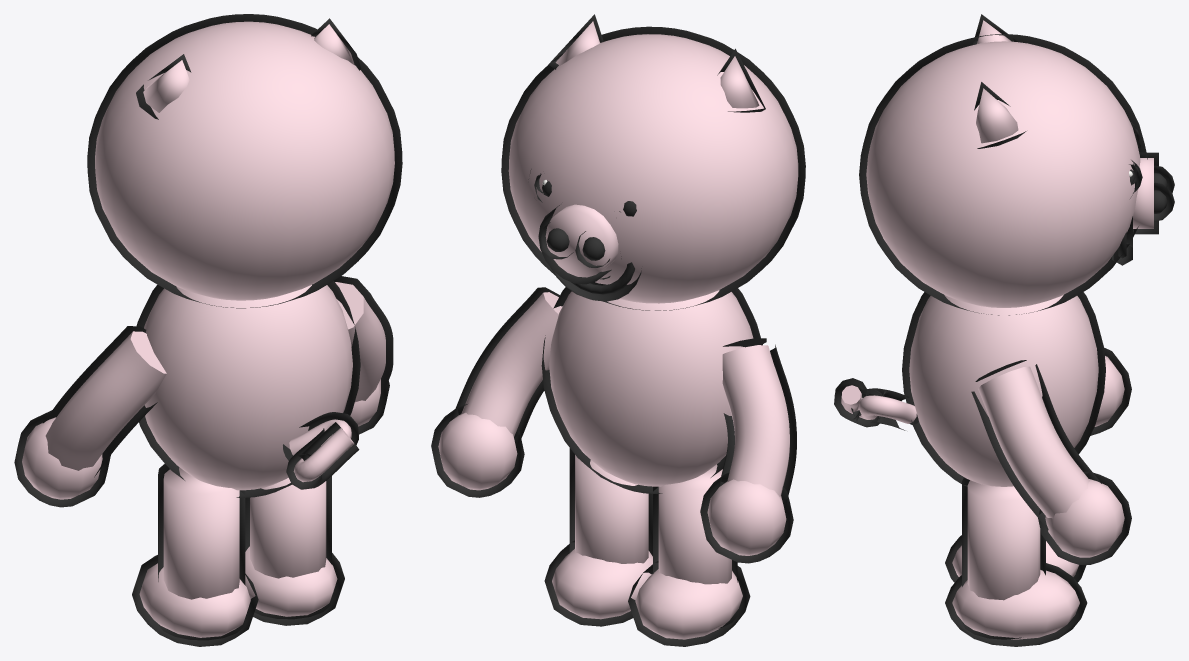
Rendered from vf_pig.glb.
3 renders of one model, left to right at view 1: azimuth 30°, elevation 25°; view 2: azimuth 150°, elevation 25°; view 3: azimuth 270°, elevation 25°, orthographic. The views are drawn at different scales.
Visible parts, largest first — view 1: pig; view 2: pig; view 3: pig.
Part boxes in pixels (left/top/right/bottom): pig: left=14, top=14, right=402, bottom=646; pig: left=431, top=14, right=805, bottom=646; pig: left=834, top=14, right=1174, bottom=646.
Size of the model in its own units: 0.9746 by 1.56 by 0.8416.
